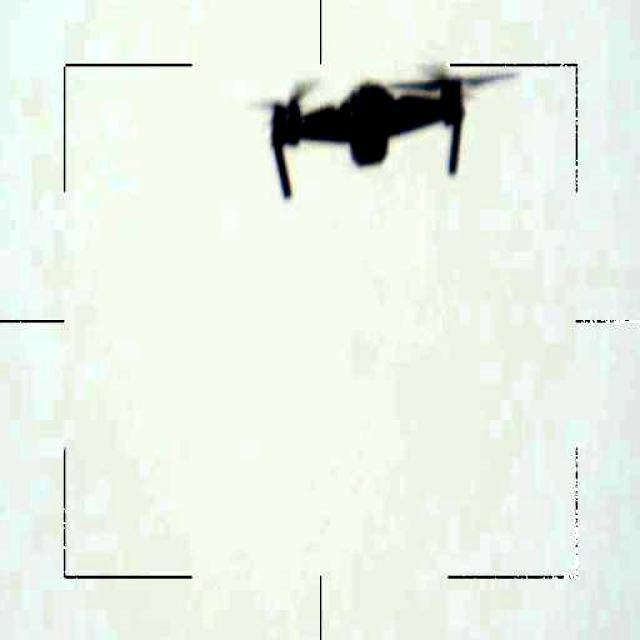bird: (248, 68, 521, 206)
